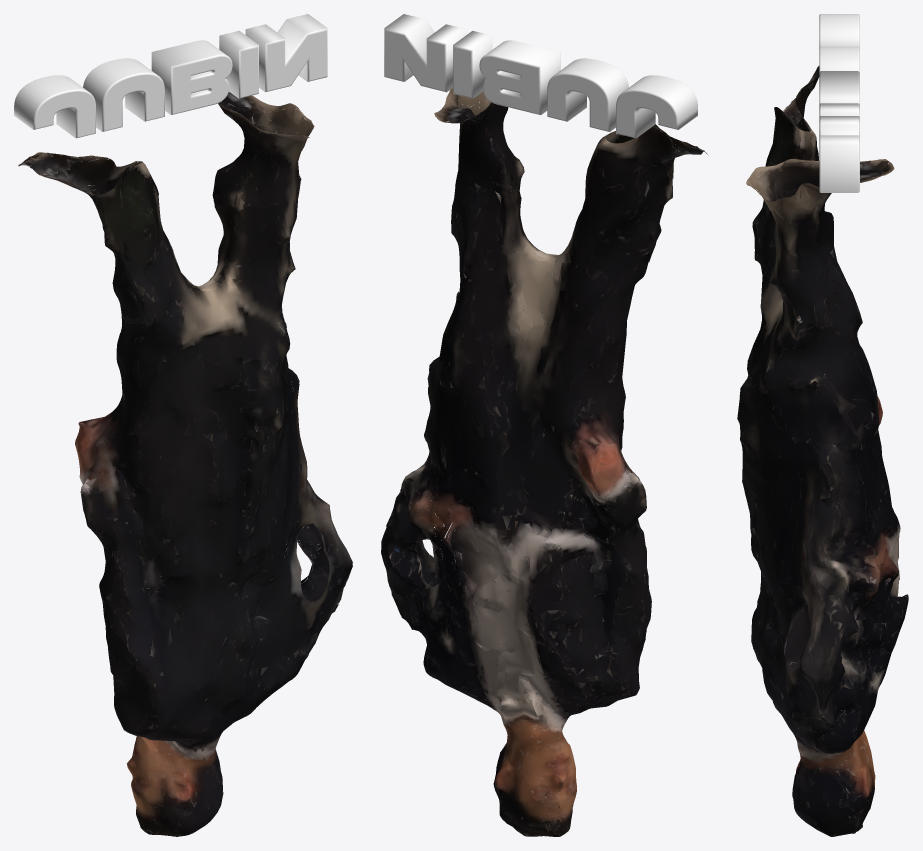
Rendered from jubin_2.glb.
3 views of the same model, side by side, from view 1: azimuth 30°, elevation 25°; view 2: azimuth 150°, elevation 25°; view 3: azimuth 270°, elevation 25° (orthographic). The views are drawn at different scales.
Visible parts, largest first — view 1: juubin001; view 2: juubin001; view 3: juubin001.
Part boxes in pixels (x1,y1,x2,y2): juubin001: [14, 14, 352, 836]; juubin001: [381, 14, 707, 836]; juubin001: [737, 14, 908, 836].
Bounding box in the file's own units: 3.97 × 8.98 × 1.85.
Materials: 2 (1 with a texture image).
